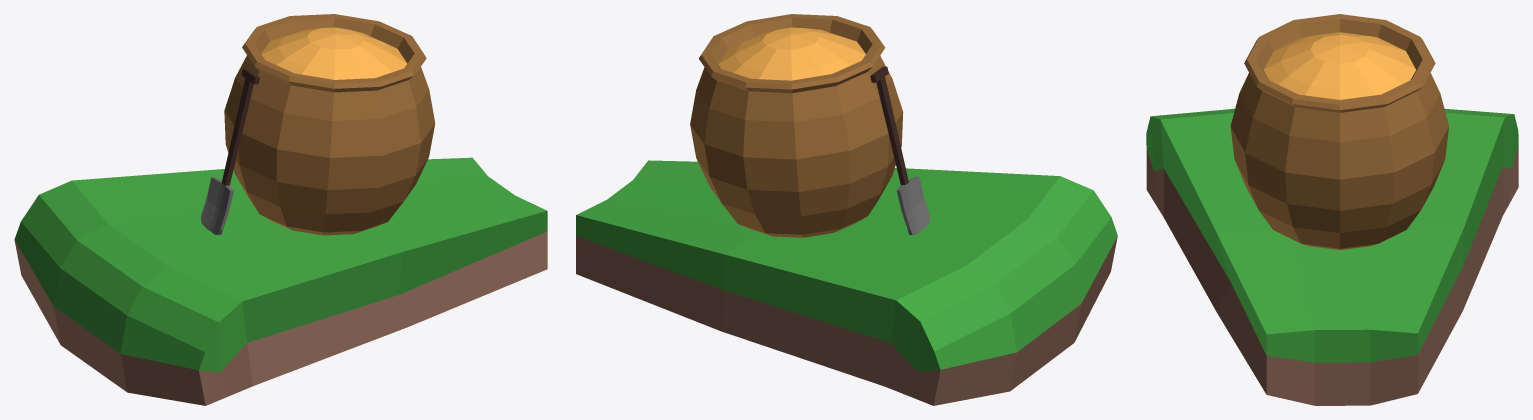
File: Food.fbx
The picture shows the model from 3 angles, left to right: view 1: azimuth 30°, elevation 25°; view 2: azimuth 150°, elevation 25°; view 3: azimuth 270°, elevation 25°; orthographic projection. The views are drawn at different scales.
Parts seen in each view (by area): view 1: Cube.005; view 2: Cube.005; view 3: Cube.005.
Boxes of the visible parts, bbox=[...] form: Cube.005: bbox=[14, 14, 547, 405]; Cube.005: bbox=[576, 14, 1117, 405]; Cube.005: bbox=[1146, 14, 1518, 405].
Size of the model in its own units: 218 by 132 by 158.
